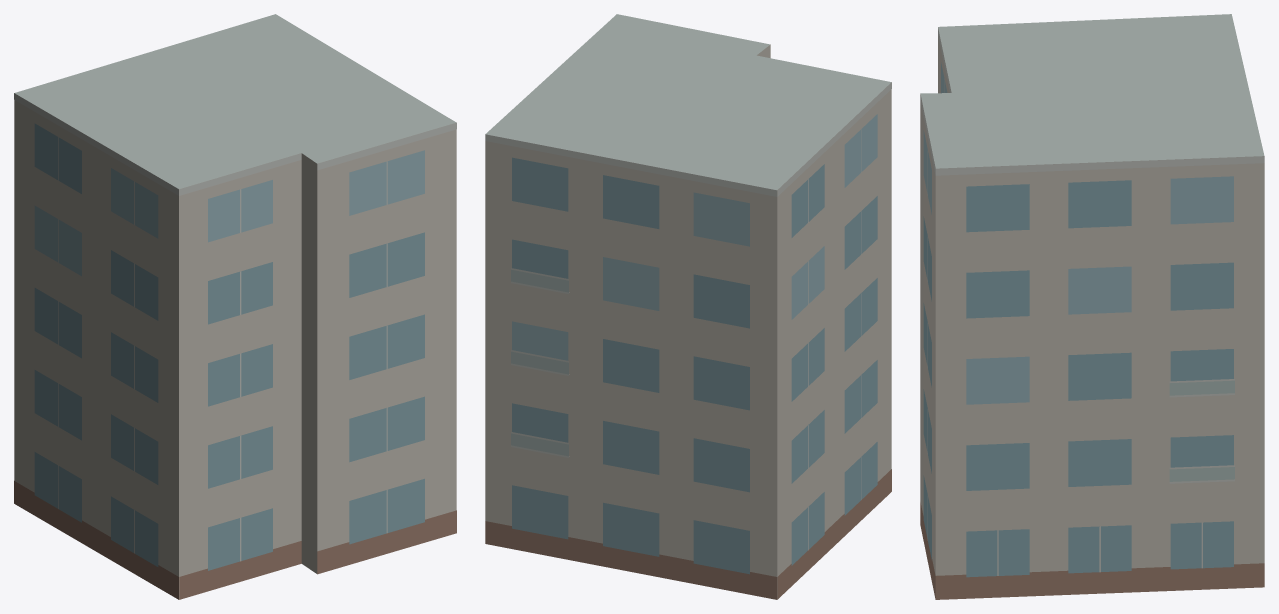
File: survey-upis-32662740.glb
3 views of the same model, side by side, from view 1: azimuth 30°, elevation 25°; view 2: azimuth 150°, elevation 25°; view 3: azimuth 270°, elevation 25° (orthographic). The views are drawn at different scales.
Parts seen in each view (by area): view 1: survey-upis-32662740.tmp; view 2: survey-upis-32662740.tmp; view 3: survey-upis-32662740.tmp.
Boxes of the visible parts, x1,y1,x2,y2 form: survey-upis-32662740.tmp: (14, 14, 456, 599); survey-upis-32662740.tmp: (485, 14, 891, 599); survey-upis-32662740.tmp: (920, 14, 1264, 599).
Bounding box in the file's own units: 11.43 × 14.85 × 10.75.
